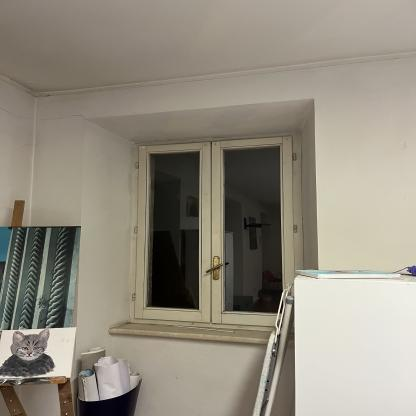Window: (123, 137, 297, 335)
